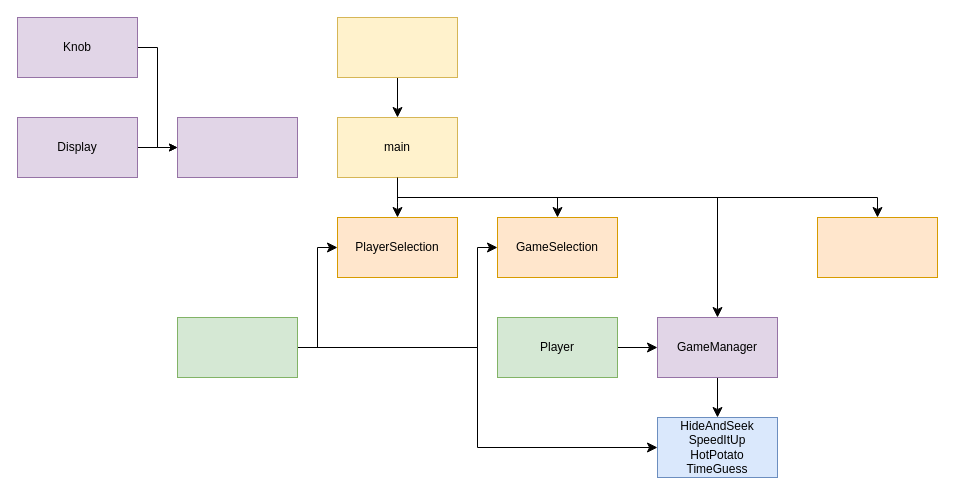
This 955x495 diagram has some shape labels left out. Here are the shapes that lost their labels. From the top down, the box of each, then its label:
(336, 16, 458, 78): boot
(176, 116, 298, 178): DeviceManager
(816, 216, 938, 278): ResultScreen
(176, 316, 298, 378): HorizontalMenu VerticalMenu Countdown Stopwatch
